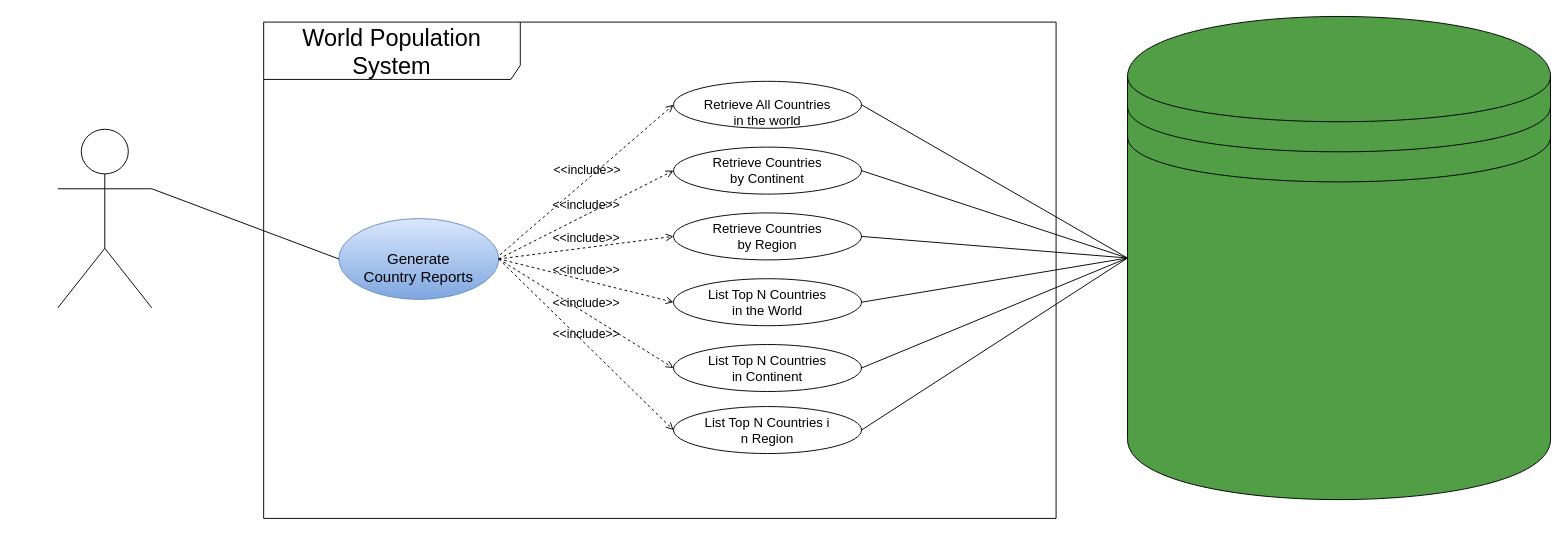
This 1567x535 diagram has some shape labels left out. The centre of each missing label's shape, as x and y in pixels:
Report Analyst: (104,218)
World Population DB: (1339,258)
